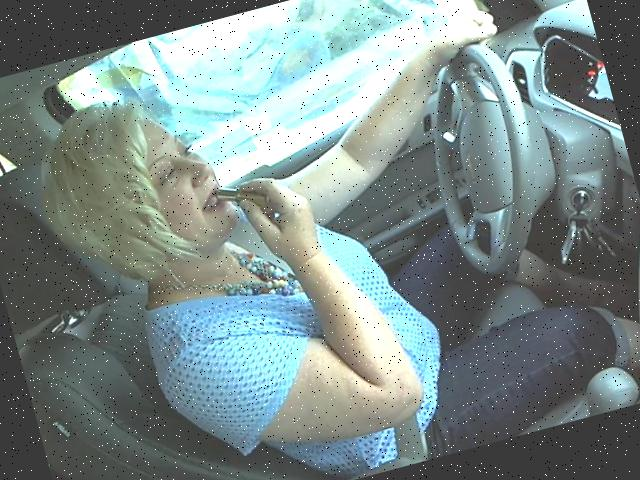c6 - Hair and Makeup: (13, 0, 585, 459)
